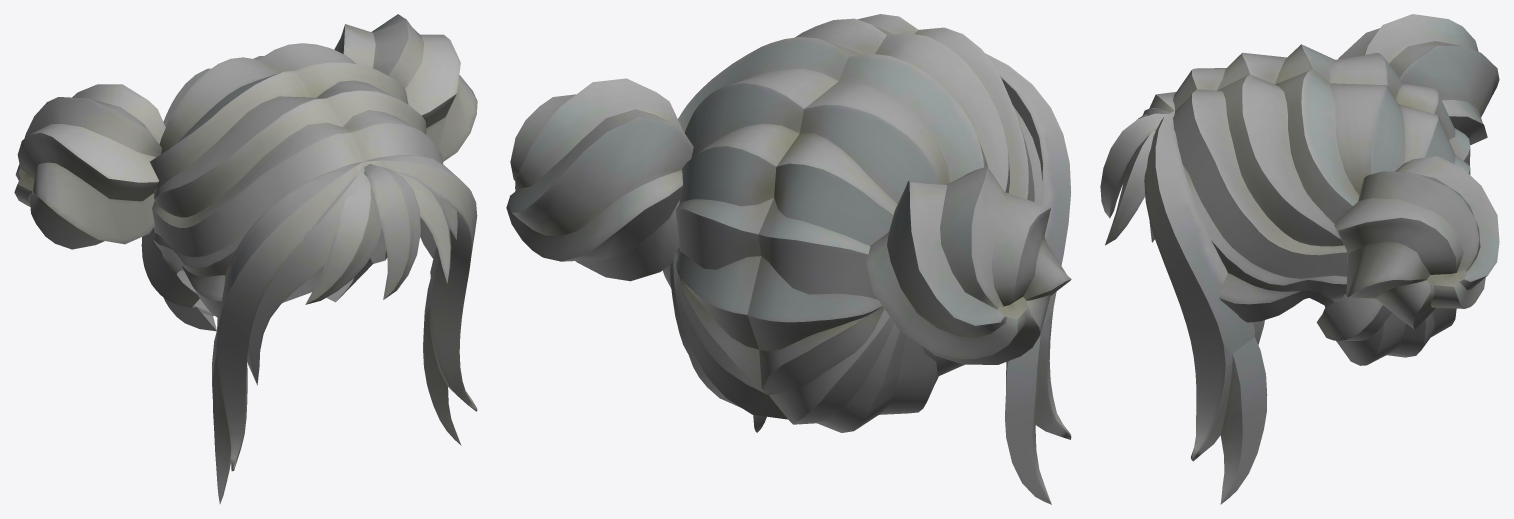
Rendered from female.hair.buns.hair-1.gltf.
3 views of the same model, side by side, from view 1: azimuth 30°, elevation 25°; view 2: azimuth 150°, elevation 25°; view 3: azimuth 270°, elevation 25° (orthographic). The views are drawn at different scales.
Visible parts, largest first — view 1: Hair_Buns; view 2: Hair_Buns; view 3: Hair_Buns.
Boxes of the visible parts, left/top/right/bottom form: Hair_Buns: left=14, top=14, right=477, bottom=504; Hair_Buns: left=506, top=14, right=1071, bottom=504; Hair_Buns: left=1100, top=14, right=1499, bottom=504.
Size of the model in its own units: 0.3015 by 0.2491 by 0.2368.
Materials: 1 (1 with a texture image).
